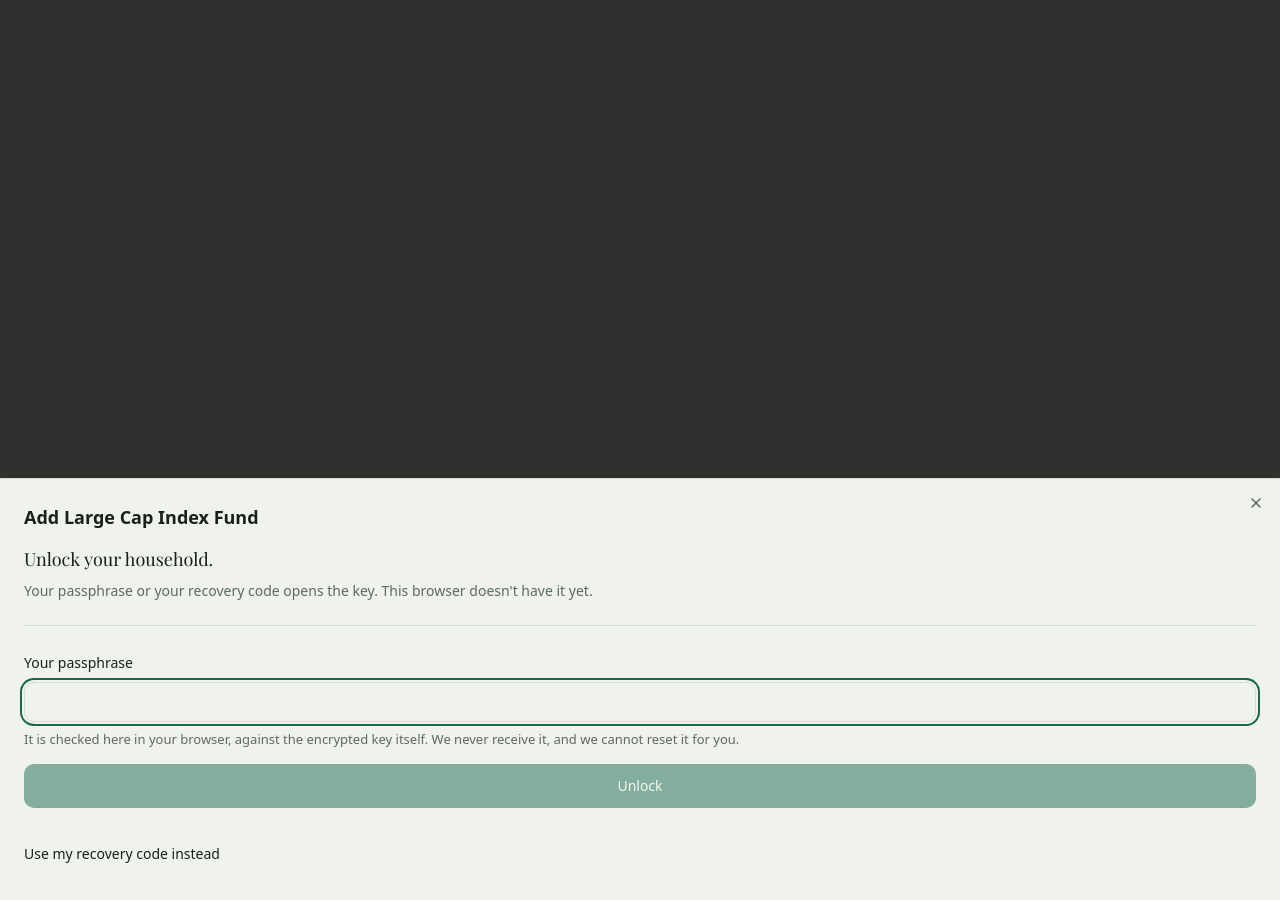
it: AddHoldingSheet › unlock: a failed unlock shows the one generic message and does not fall through to the form
Type "wrong one entirely" into the password field labelled "Your passphrase". click: (640, 702)
box: x1=24 y1=682 x2=1256 y2=722
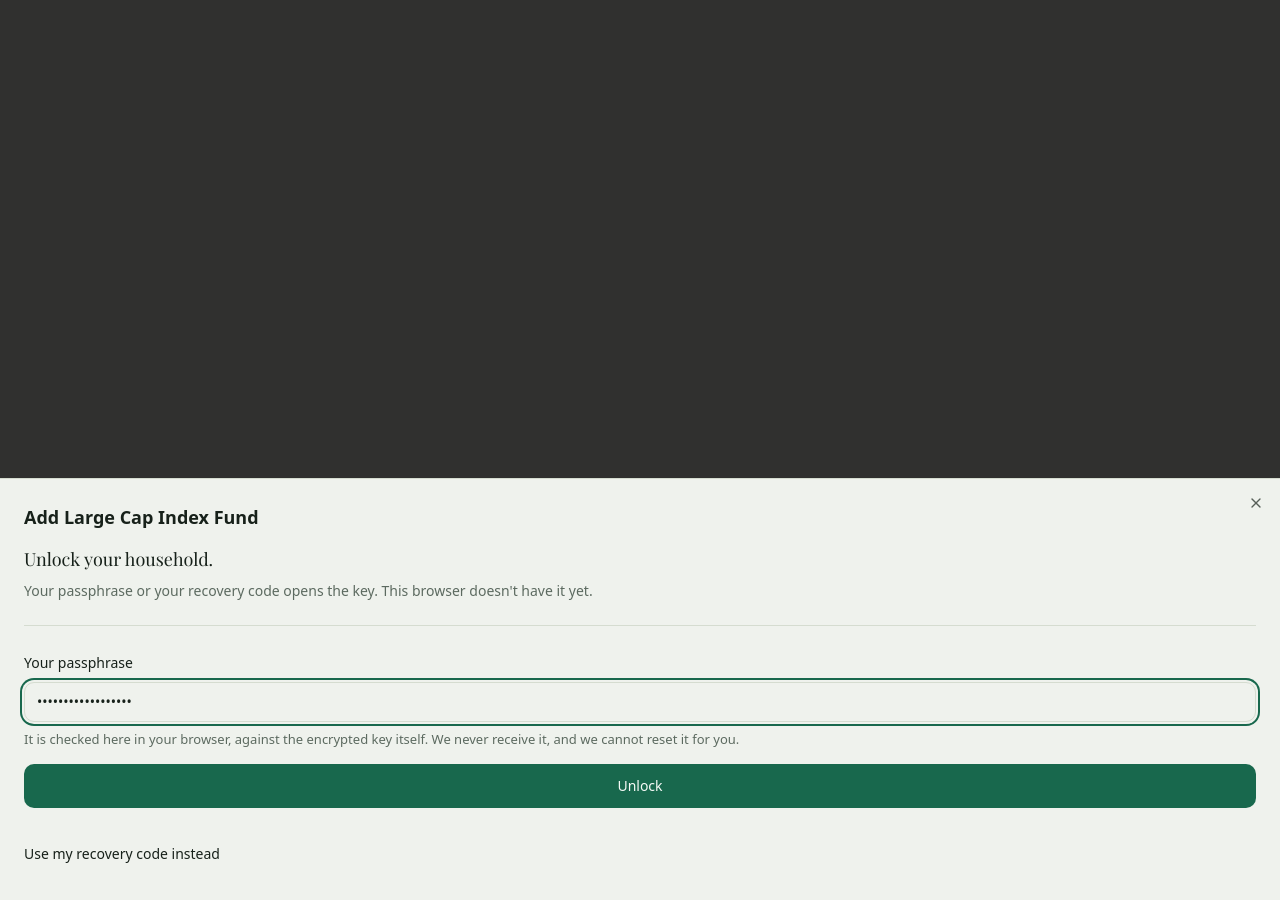
Click the button "Unlock". click: (640, 786)
box: x1=24 y1=764 x2=1256 y2=808
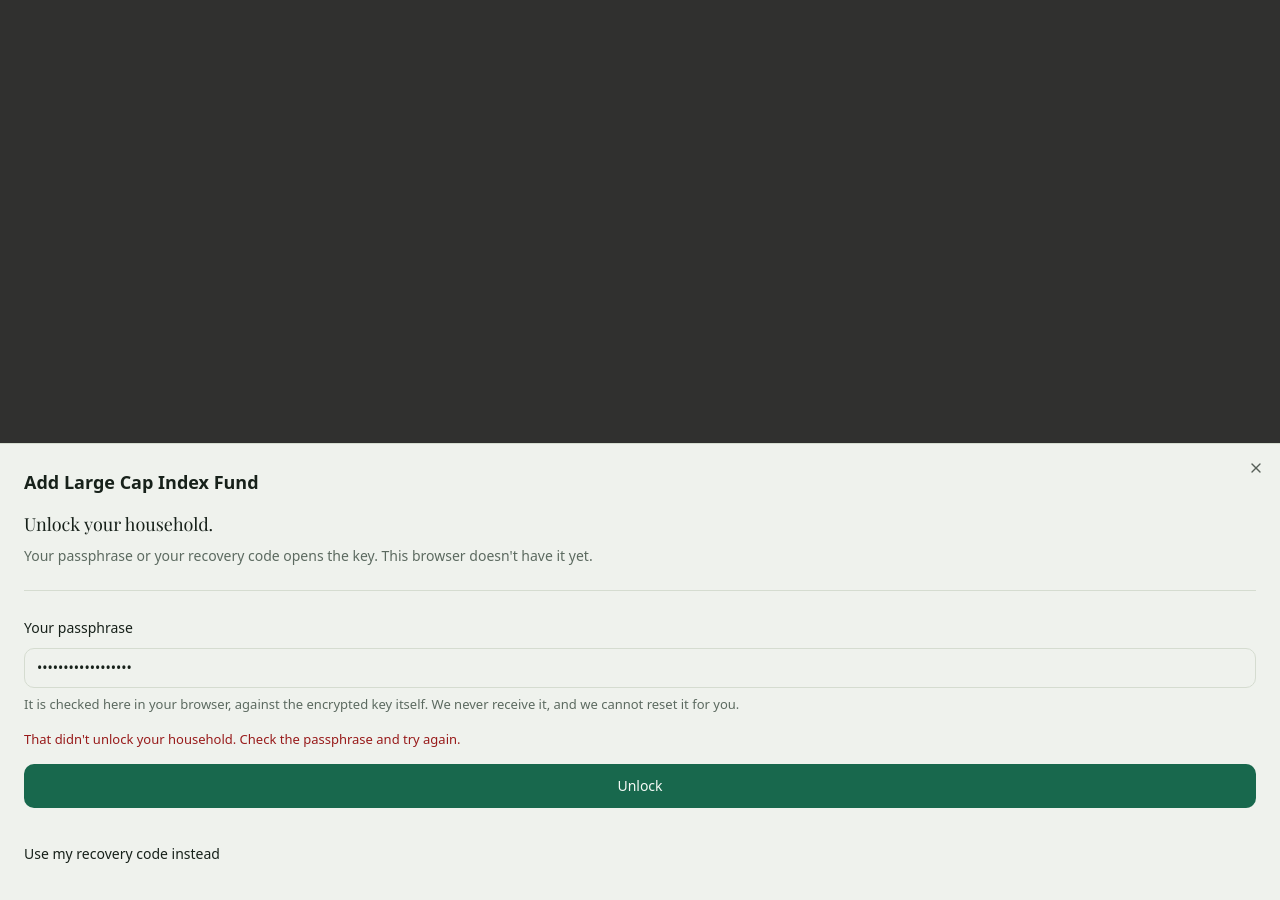
Expected: the message shows "didn't unlock your household", x1=24 y1=730 x2=460 y2=748
